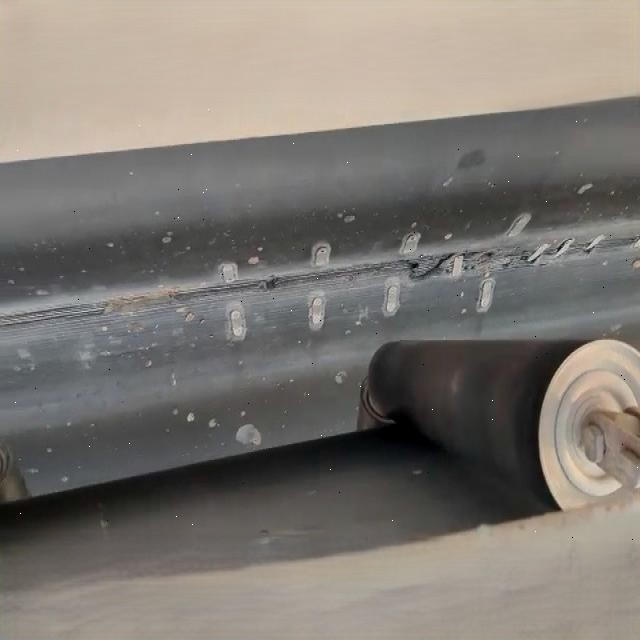Tear: (391, 249, 461, 286)
Wear: (0, 230, 640, 337)
